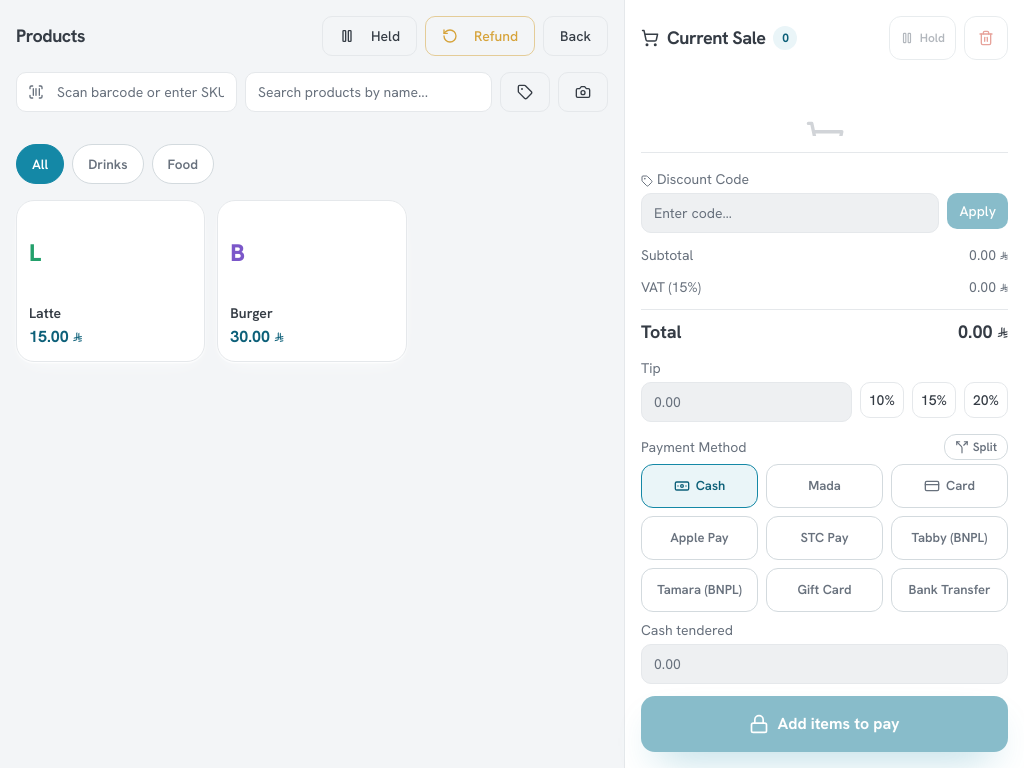
POSTerminal selected-state a11y (#226) › exposes the split-payment toggle state via aria-pressed
The width and height of the screenshot is (1024, 768).
Click the button "Split". click: coordinates (976, 447)
box: [944,434,1008,460]
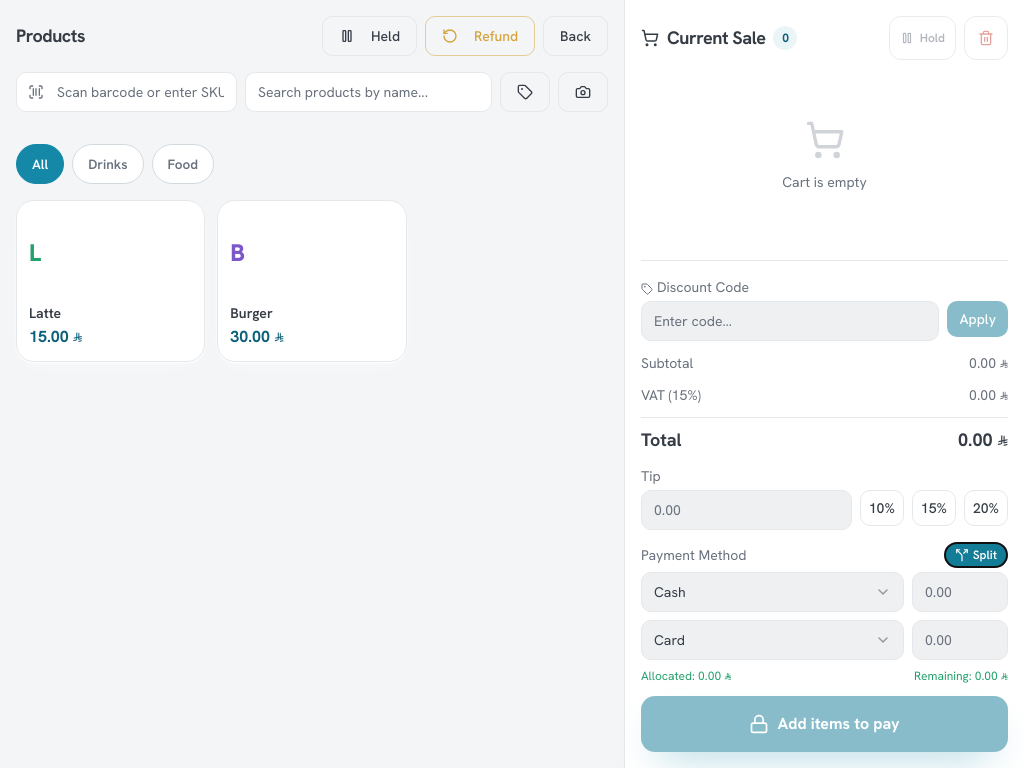
Now the button "Split" is pressed, box [944,542,1008,568]
